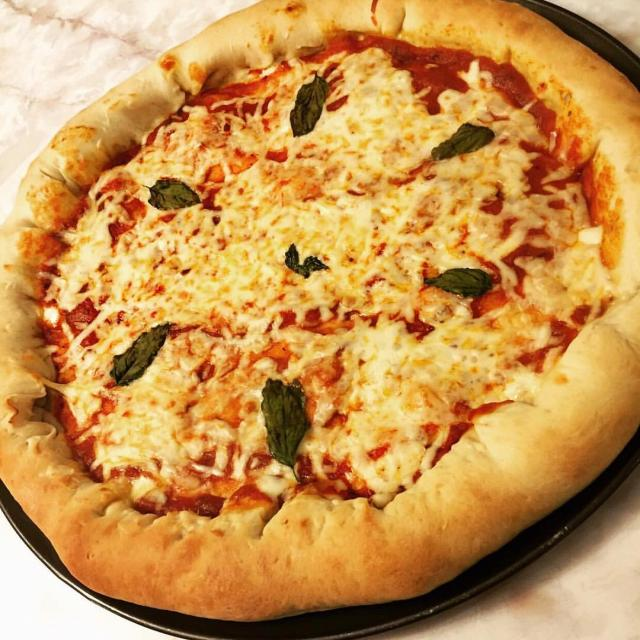basil: (258, 374, 316, 488), (111, 320, 175, 390), (426, 119, 496, 165), (287, 70, 331, 141), (418, 265, 498, 298), (140, 172, 203, 213), (283, 243, 334, 280)
pizza: (0, 0, 640, 624)
